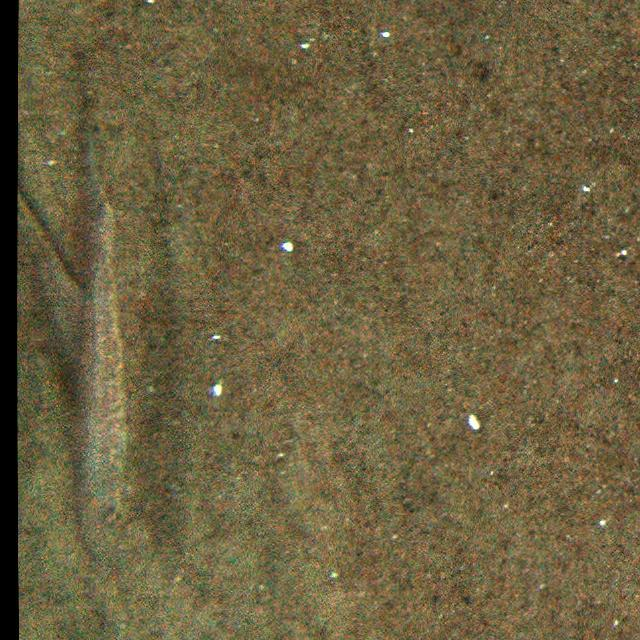roundfish: (36, 117, 136, 558)
